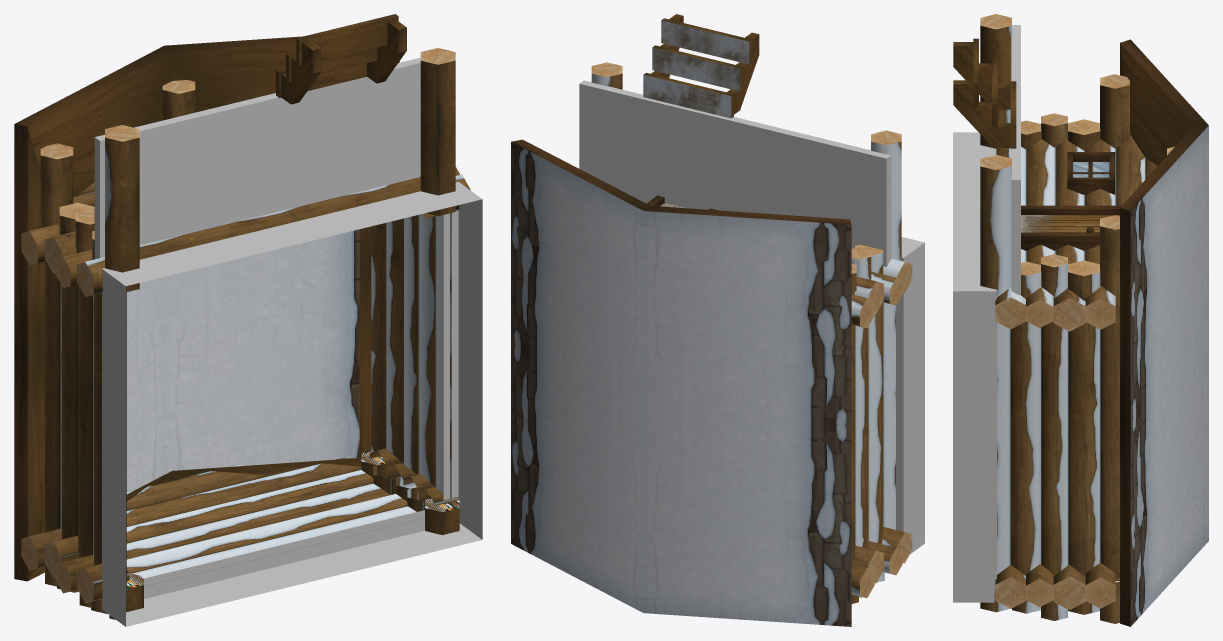
Rendered from Log_House_C.fbx.
3 renders of one model, left to right at view 1: azimuth 30°, elevation 25°; view 2: azimuth 150°, elevation 25°; view 3: azimuth 270°, elevation 25°, orthographic. The views are drawn at different scales.
Parts seen in each view (by area): view 1: Log_House_C; view 2: Log_House_C; view 3: Log_House_C.
Boxes of the visible parts, <box> form: Log_House_C: <box>14,14,482,626</box>; Log_House_C: <box>511,14,924,626</box>; Log_House_C: <box>953,14,1208,626</box>.
Size of the model in its own units: 77.79 by 106 by 48.34.
